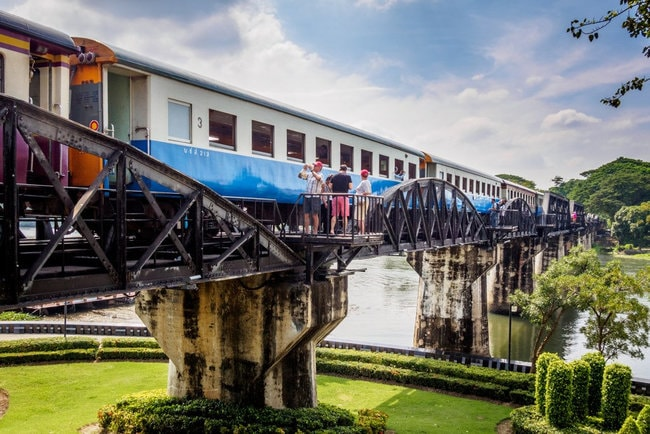bridge: (1, 96, 601, 306)
